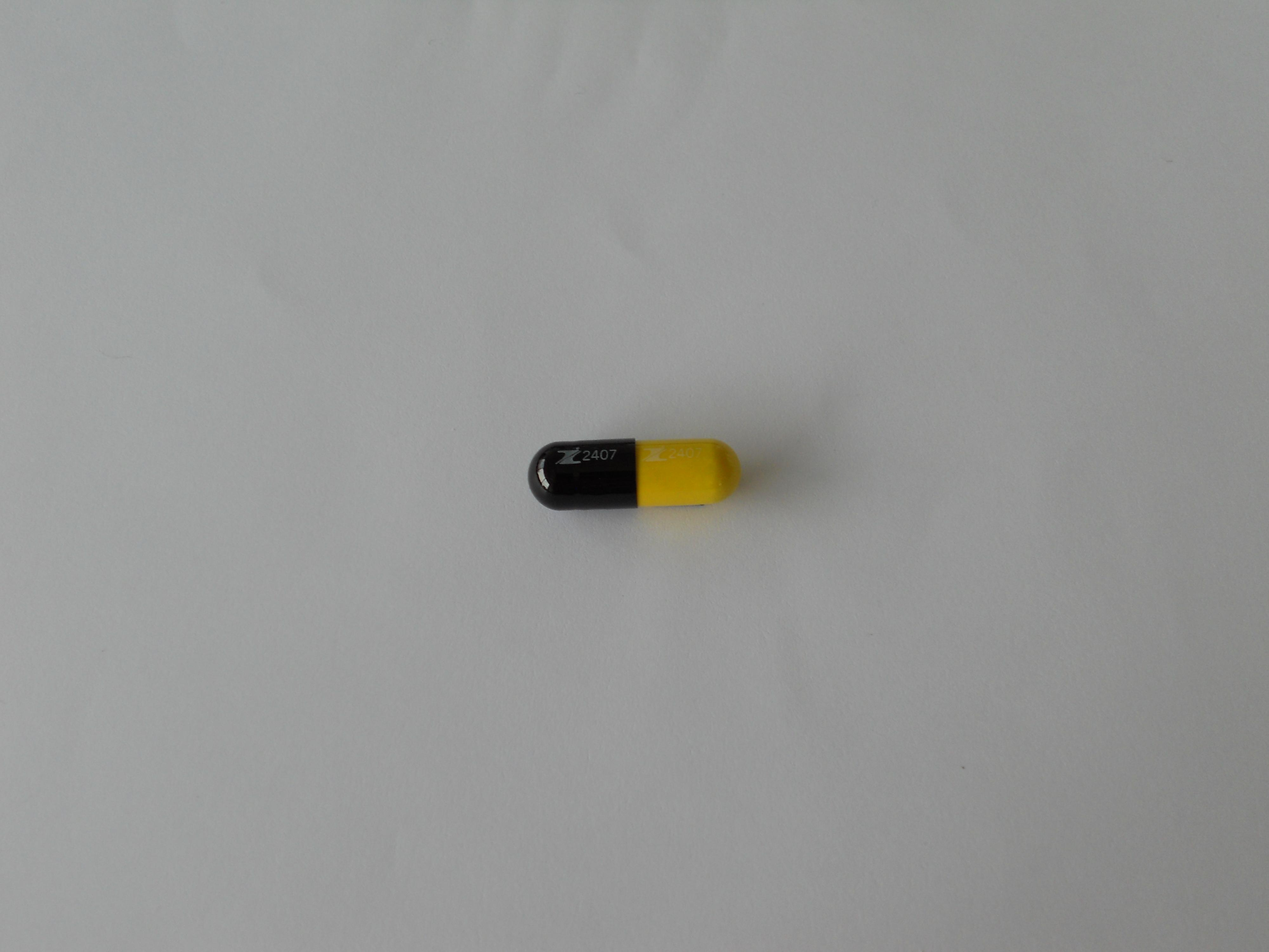Pill: (517, 427, 750, 517)
